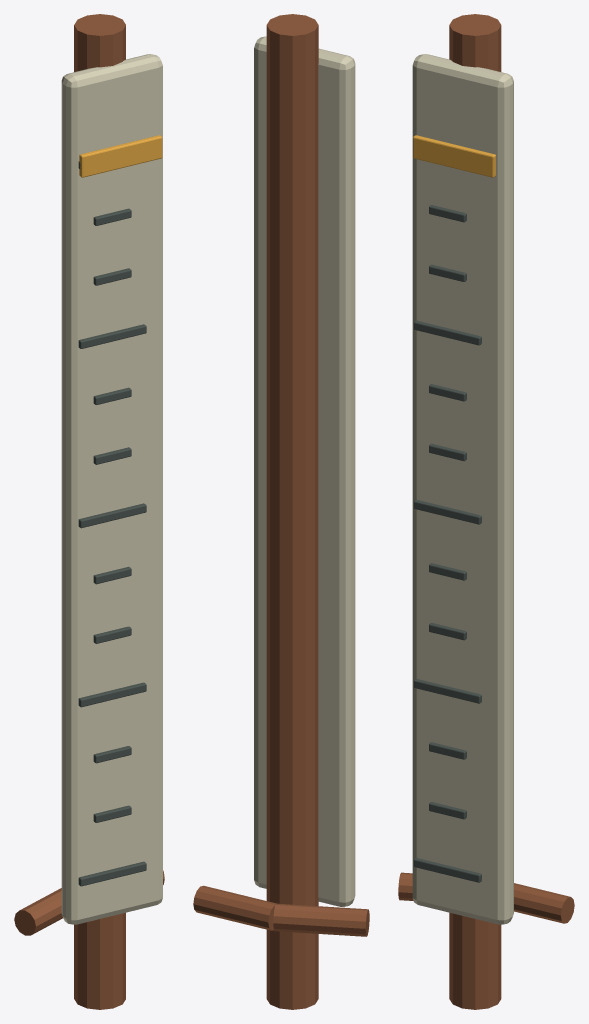
The model's file is Lakebed_Waterline_Gauge.glb.
3 views of the same model, side by side, from view 1: azimuth 30°, elevation 25°; view 2: azimuth 150°, elevation 25°; view 3: azimuth 330°, elevation 25° (orthographic).
Visible parts, largest first — view 1: Structure; view 2: Structure; view 3: Structure.
Part boxes in pixels (x1=…): Structure: x1=14, y1=14, x2=164, y2=1009; Structure: x1=193, y1=14, x2=369, y2=1009; Structure: x1=398, y1=14, x2=574, y2=1009.
Size of the model in its own units: 0.5149 by 3.1 by 0.269.
